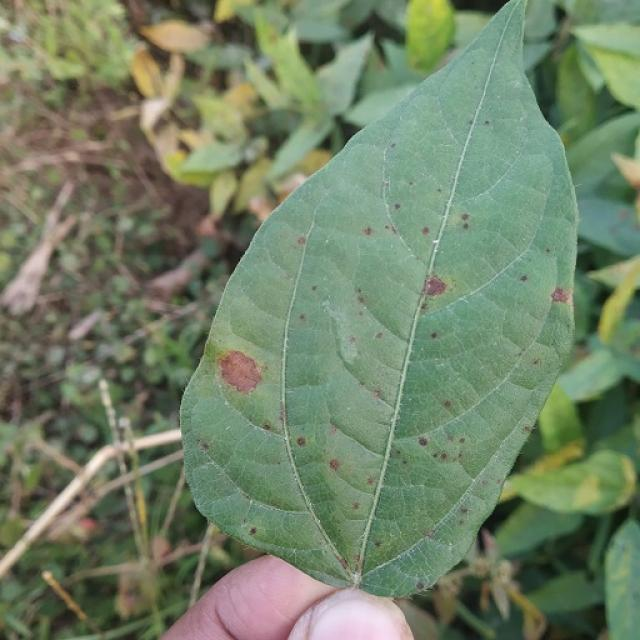Anthracnose: (218, 352, 277, 396), (419, 425, 473, 467), (424, 270, 452, 304), (549, 278, 570, 304), (337, 555, 352, 574), (328, 459, 340, 471), (296, 437, 306, 447), (418, 437, 428, 447), (424, 529, 434, 538), (329, 424, 337, 435), (363, 227, 372, 236), (421, 226, 430, 235), (297, 236, 306, 245), (443, 400, 452, 409), (523, 425, 532, 434), (357, 296, 365, 305), (461, 213, 469, 222), (200, 442, 209, 450), (249, 527, 257, 535), (352, 502, 360, 510), (520, 274, 528, 282), (375, 332, 383, 340), (366, 477, 374, 485), (416, 582, 424, 590), (263, 423, 271, 431), (349, 336, 356, 344), (373, 390, 380, 398), (460, 507, 468, 514), (462, 223, 469, 230), (430, 332, 437, 339), (394, 203, 401, 210), (299, 314, 306, 321)
Blackgram: (184, 2, 575, 595)
